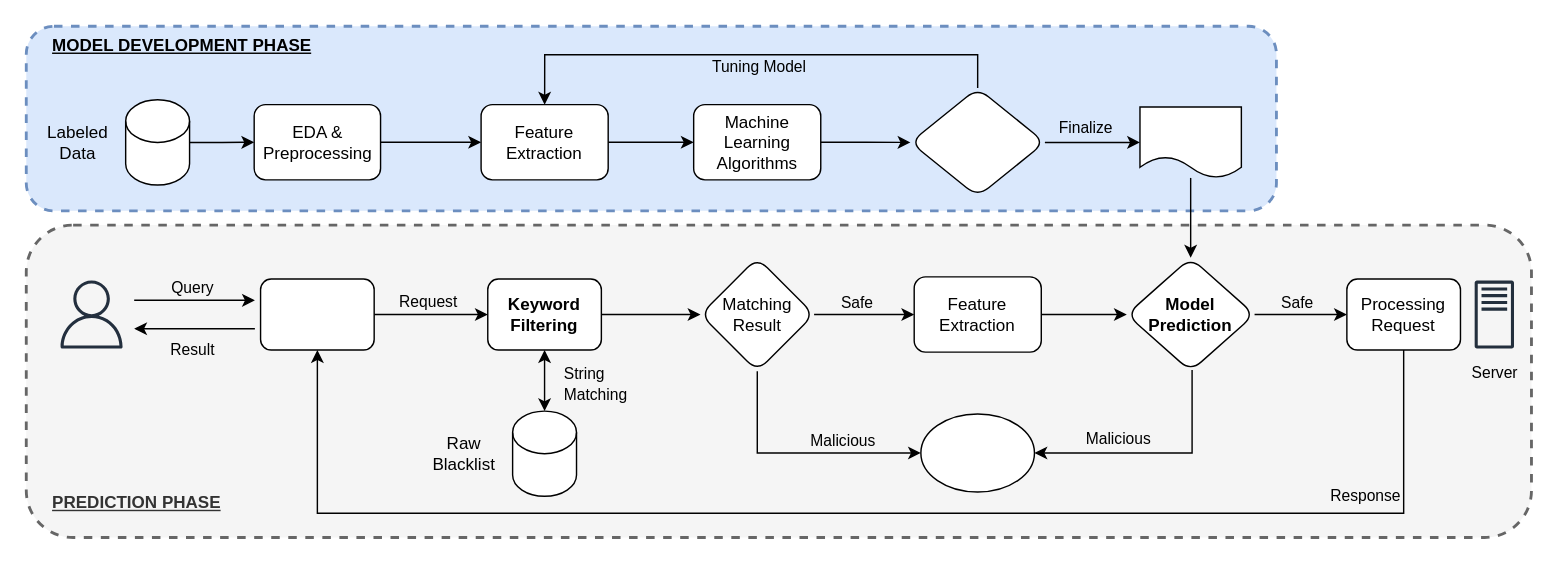
The diagram is 1556 pixels wide and 562 high, and some of its shapes have lost their labels. Each missing label, with the centre of its shape:
"Model Evaluation" belongs at pixel 977 142.
"Reject Request" belongs at pixel 976 452.
"Trained Model" belongs at pixel 1190 142.
"User" belongs at pixel 91 314.
"User Interface" belongs at pixel 316 314.
